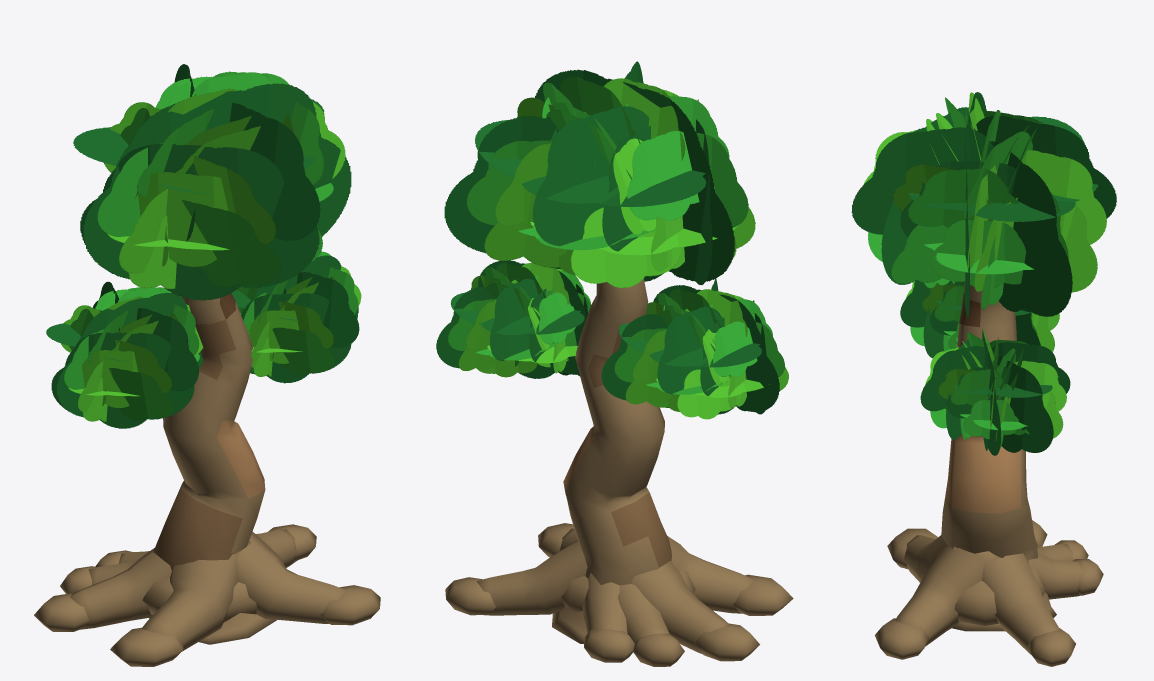
The model's file is TREE_EUCALYPTUS_001_v015_LOD_GAMEPLAY.glb.
The picture shows the model from 3 angles, left to right: view 1: azimuth 30°, elevation 25°; view 2: azimuth 150°, elevation 25°; view 3: azimuth 270°, elevation 25°; orthographic projection. The views are drawn at different scales.
Parts seen in each view (by area): view 1: TREE_EUCALYPTUS_001_GAMEPLAY_AUTHORED_FOLIAGE_ISLANDS, TREE_EUCALYPTUS_001_GAMEPLAY_MAIN_TRUNK, TREE_EUCALYPTUS_001_GAMEPLAY_ROOT_FRONT_LEFT, TREE_EUCALYPTUS_001_GAMEPLAY_ROOT_FRONT_RIGHT, TREE_EUCALYPTUS_001_GAMEPLAY_ROOT_LONG_LEFT, TREE_EUCALYPTUS_001_GAMEPLAY_ROOT_TOE_FRONT_LEFT, TREE_EUCALYPTUS_001_GAMEPLAY_ROOT_TOE_FRONT_RIGHT, TREE_EUCALYPTUS_001_GAMEPLAY_ROOT_TOE_LONG_LEFT, TREE_EUCALYPTUS_001_GAMEPLAY_BROAD_PLANTED_ROOT_MOUND, TREE_EUCALYPTUS_001_GAMEPLAY_SCULPTED_ROOT_COLLAR, TREE_EUCALYPTUS_001_GAMEPLAY_ROOT_RIGHT_SIDE, TREE_EUCALYPTUS_001_GAMEPLAY_ROOT_TOE_RIGHT_SIDE (+1 smaller); view 2: TREE_EUCALYPTUS_001_GAMEPLAY_AUTHORED_FOLIAGE_ISLANDS, TREE_EUCALYPTUS_001_GAMEPLAY_MAIN_TRUNK, TREE_EUCALYPTUS_001_GAMEPLAY_ROOT_RIGHT_SIDE, TREE_EUCALYPTUS_001_GAMEPLAY_ROOT_LONG_LEFT, TREE_EUCALYPTUS_001_GAMEPLAY_ROOT_FRONT_LEFT, TREE_EUCALYPTUS_001_GAMEPLAY_ROOT_REAR_SHORT, TREE_EUCALYPTUS_001_GAMEPLAY_ROOT_TOE_LONG_LEFT, TREE_EUCALYPTUS_001_GAMEPLAY_ROOT_LEFT_REAR, TREE_EUCALYPTUS_001_GAMEPLAY_ROOT_TOE_FRONT_LEFT, TREE_EUCALYPTUS_001_GAMEPLAY_ROOT_TOE_REAR_SHORT, TREE_EUCALYPTUS_001_GAMEPLAY_ROOT_TOE_RIGHT_SIDE, TREE_EUCALYPTUS_001_GAMEPLAY_ROOT_TOE_LEFT_REAR (+3 smaller); view 3: TREE_EUCALYPTUS_001_GAMEPLAY_AUTHORED_FOLIAGE_ISLANDS, TREE_EUCALYPTUS_001_GAMEPLAY_MAIN_TRUNK, TREE_EUCALYPTUS_001_GAMEPLAY_ROOT_FRONT_RIGHT, TREE_EUCALYPTUS_001_GAMEPLAY_ROOT_RIGHT_SIDE, TREE_EUCALYPTUS_001_GAMEPLAY_ROOT_REAR_SHORT, TREE_EUCALYPTUS_001_GAMEPLAY_BROAD_PLANTED_ROOT_MOUND, TREE_EUCALYPTUS_001_GAMEPLAY_ROOT_TOE_FRONT_RIGHT, TREE_EUCALYPTUS_001_GAMEPLAY_ROOT_TOE_RIGHT_SIDE, TREE_EUCALYPTUS_001_GAMEPLAY_ROOT_FRONT_LEFT, TREE_EUCALYPTUS_001_GAMEPLAY_ROOT_TOE_FRONT_LEFT, TREE_EUCALYPTUS_001_GAMEPLAY_ROOT_TOE_REAR_SHORT, TREE_EUCALYPTUS_001_GAMEPLAY_SCULPTED_ROOT_COLLAR (+1 smaller).
Boxes of the visible parts, <box> form: TREE_EUCALYPTUS_001_GAMEPLAY_AUTHORED_FOLIAGE_ISLANDS: <box>46,64,361,428</box>; TREE_EUCALYPTUS_001_GAMEPLAY_MAIN_TRUNK: <box>153,293,265,570</box>; TREE_EUCALYPTUS_001_GAMEPLAY_ROOT_FRONT_LEFT: <box>142,540,251,651</box>; TREE_EUCALYPTUS_001_GAMEPLAY_ROOT_FRONT_RIGHT: <box>237,531,346,623</box>; TREE_EUCALYPTUS_001_GAMEPLAY_ROOT_LONG_LEFT: <box>70,548,171,629</box>; TREE_EUCALYPTUS_001_GAMEPLAY_ROOT_TOE_FRONT_LEFT: <box>110,627,183,666</box>; TREE_EUCALYPTUS_001_GAMEPLAY_ROOT_TOE_FRONT_RIGHT: <box>320,585,380,625</box>; TREE_EUCALYPTUS_001_GAMEPLAY_ROOT_TOE_LONG_LEFT: <box>34,593,89,631</box>; TREE_EUCALYPTUS_001_GAMEPLAY_BROAD_PLANTED_ROOT_MOUND: <box>142,577,256,622</box>; TREE_EUCALYPTUS_001_GAMEPLAY_SCULPTED_ROOT_COLLAR: <box>149,613,276,644</box>; TREE_EUCALYPTUS_001_GAMEPLAY_ROOT_RIGHT_SIDE: <box>256,529,297,567</box>; TREE_EUCALYPTUS_001_GAMEPLAY_ROOT_TOE_RIGHT_SIDE: <box>268,524,316,560</box>; TREE_EUCALYPTUS_001_GAMEPLAY_AUTHORED_FOLIAGE_ISLANDS: <box>436,61,788,419</box>; TREE_EUCALYPTUS_001_GAMEPLAY_MAIN_TRUNK: <box>563,278,671,585</box>; TREE_EUCALYPTUS_001_GAMEPLAY_ROOT_RIGHT_SIDE: <box>476,540,587,615</box>; TREE_EUCALYPTUS_001_GAMEPLAY_ROOT_LONG_LEFT: <box>631,561,728,653</box>; TREE_EUCALYPTUS_001_GAMEPLAY_ROOT_FRONT_LEFT: <box>667,536,753,613</box>; TREE_EUCALYPTUS_001_GAMEPLAY_ROOT_REAR_SHORT: <box>582,573,627,633</box>; TREE_EUCALYPTUS_001_GAMEPLAY_ROOT_TOE_LONG_LEFT: <box>694,623,759,661</box>; TREE_EUCALYPTUS_001_GAMEPLAY_ROOT_LEFT_REAR: <box>617,584,669,642</box>; TREE_EUCALYPTUS_001_GAMEPLAY_ROOT_TOE_FRONT_LEFT: <box>733,574,793,615</box>; TREE_EUCALYPTUS_001_GAMEPLAY_ROOT_TOE_REAR_SHORT: <box>583,629,634,662</box>; TREE_EUCALYPTUS_001_GAMEPLAY_ROOT_TOE_RIGHT_SIDE: <box>445,577,496,615</box>; TREE_EUCALYPTUS_001_GAMEPLAY_ROOT_TOE_LEFT_REAR: <box>633,633,684,666</box>; TREE_EUCALYPTUS_001_GAMEPLAY_AUTHORED_FOLIAGE_ISLANDS: <box>851,92,1116,455</box>; TREE_EUCALYPTUS_001_GAMEPLAY_MAIN_TRUNK: <box>941,281,1037,564</box>; TREE_EUCALYPTUS_001_GAMEPLAY_ROOT_FRONT_RIGHT: <box>895,546,1005,646</box>; TREE_EUCALYPTUS_001_GAMEPLAY_ROOT_RIGHT_SIDE: <box>981,553,1059,655</box>; TREE_EUCALYPTUS_001_GAMEPLAY_ROOT_REAR_SHORT: <box>1028,553,1082,599</box>; TREE_EUCALYPTUS_001_GAMEPLAY_BROAD_PLANTED_ROOT_MOUND: <box>954,567,1044,625</box>; TREE_EUCALYPTUS_001_GAMEPLAY_ROOT_TOE_FRONT_RIGHT: <box>875,618,928,659</box>; TREE_EUCALYPTUS_001_GAMEPLAY_ROOT_TOE_RIGHT_SIDE: <box>1028,628,1075,666</box>; TREE_EUCALYPTUS_001_GAMEPLAY_ROOT_FRONT_LEFT: <box>903,535,956,582</box>; TREE_EUCALYPTUS_001_GAMEPLAY_ROOT_TOE_FRONT_LEFT: <box>887,528,937,569</box>; TREE_EUCALYPTUS_001_GAMEPLAY_ROOT_TOE_REAR_SHORT: <box>1072,559,1103,595</box>; TREE_EUCALYPTUS_001_GAMEPLAY_SCULPTED_ROOT_COLLAR: <box>952,592,1056,631</box>.
Bounding box in the file's own units: 4.13 × 6.57 × 3.3.
Materials: 5 (1 with a texture image).
